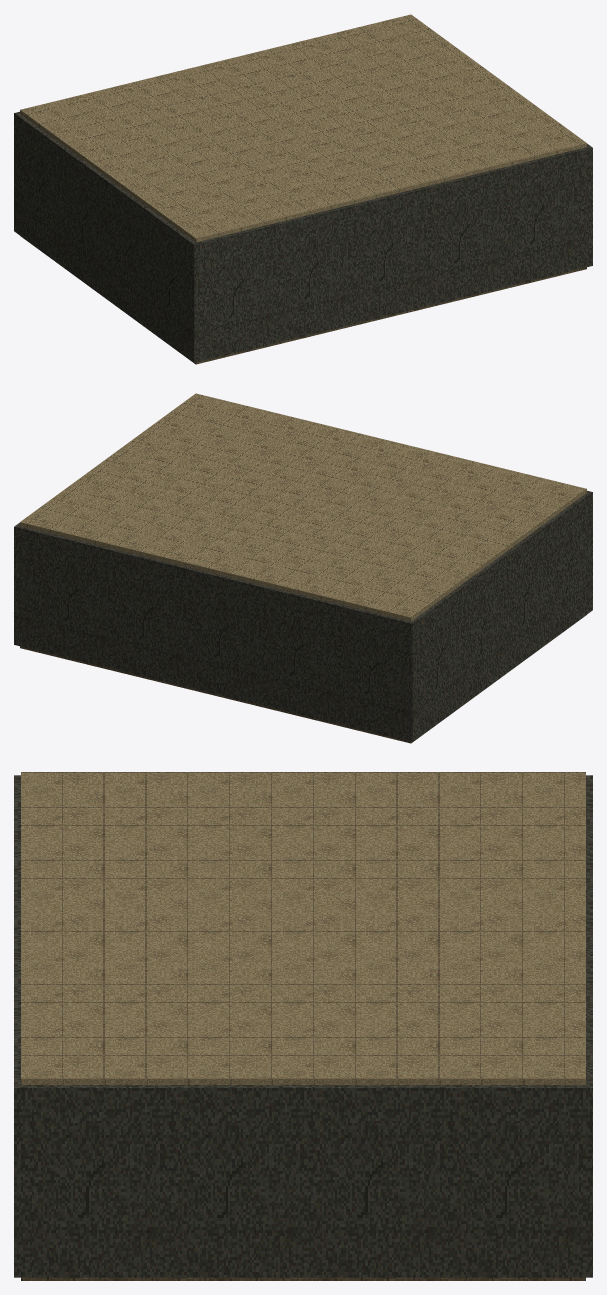
Rendered from PSX_ShelvesPropsHorrorPSX_ShelvesProps_Horror.glb.
3 views of the same model, one above another, from view 1: azimuth 30°, elevation 25°; view 2: azimuth 150°, elevation 25°; view 3: azimuth 270°, elevation 25° (orthographic). The views are drawn at different scales.
Visible parts, largest first — view 1: Display_Ceiling, Display_Wall_Front, Display_Wall_Left, Display_Floor; view 2: Display_Ceiling, Display_Wall_Back, Display_Wall_Left, Display_Floor; view 3: Display_Ceiling, Display_Wall_Right, Display_Wall_Back, Display_Wall_Front, Display_Floor.
Boxes of the visible parts, box(x1,y1,x2,y2) form: Display_Ceiling: box(20, 14, 586, 242); Display_Wall_Front: box(192, 146, 592, 362); Display_Wall_Left: box(16, 114, 195, 360); Display_Floor: box(21, 236, 586, 364); Display_Ceiling: box(20, 393, 586, 621); Display_Wall_Back: box(14, 525, 414, 741); Display_Wall_Left: box(411, 493, 590, 739); Display_Floor: box(20, 615, 585, 743); Display_Ceiling: box(21, 772, 585, 1084); Display_Wall_Right: box(21, 1085, 585, 1277); Display_Wall_Back: box(586, 775, 592, 1277); Display_Wall_Front: box(14, 775, 20, 1277); Display_Floor: box(21, 1277, 585, 1280).
Bounding box in the file's own units: 10.6 × 3.2 × 8.3.
Materials: 65 (65 with a texture image).
